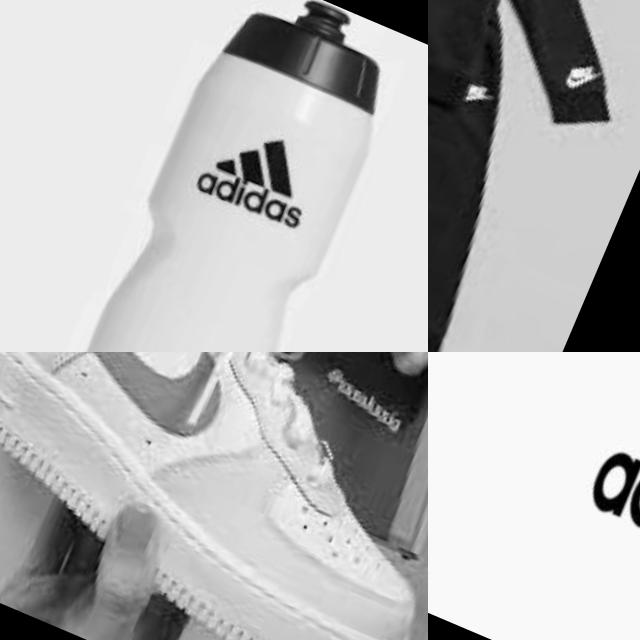ADIDAS_original: (537, 352, 640, 638), (172, 97, 346, 262), (574, 418, 640, 598)
NIKE_original: (0, 352, 275, 495)
